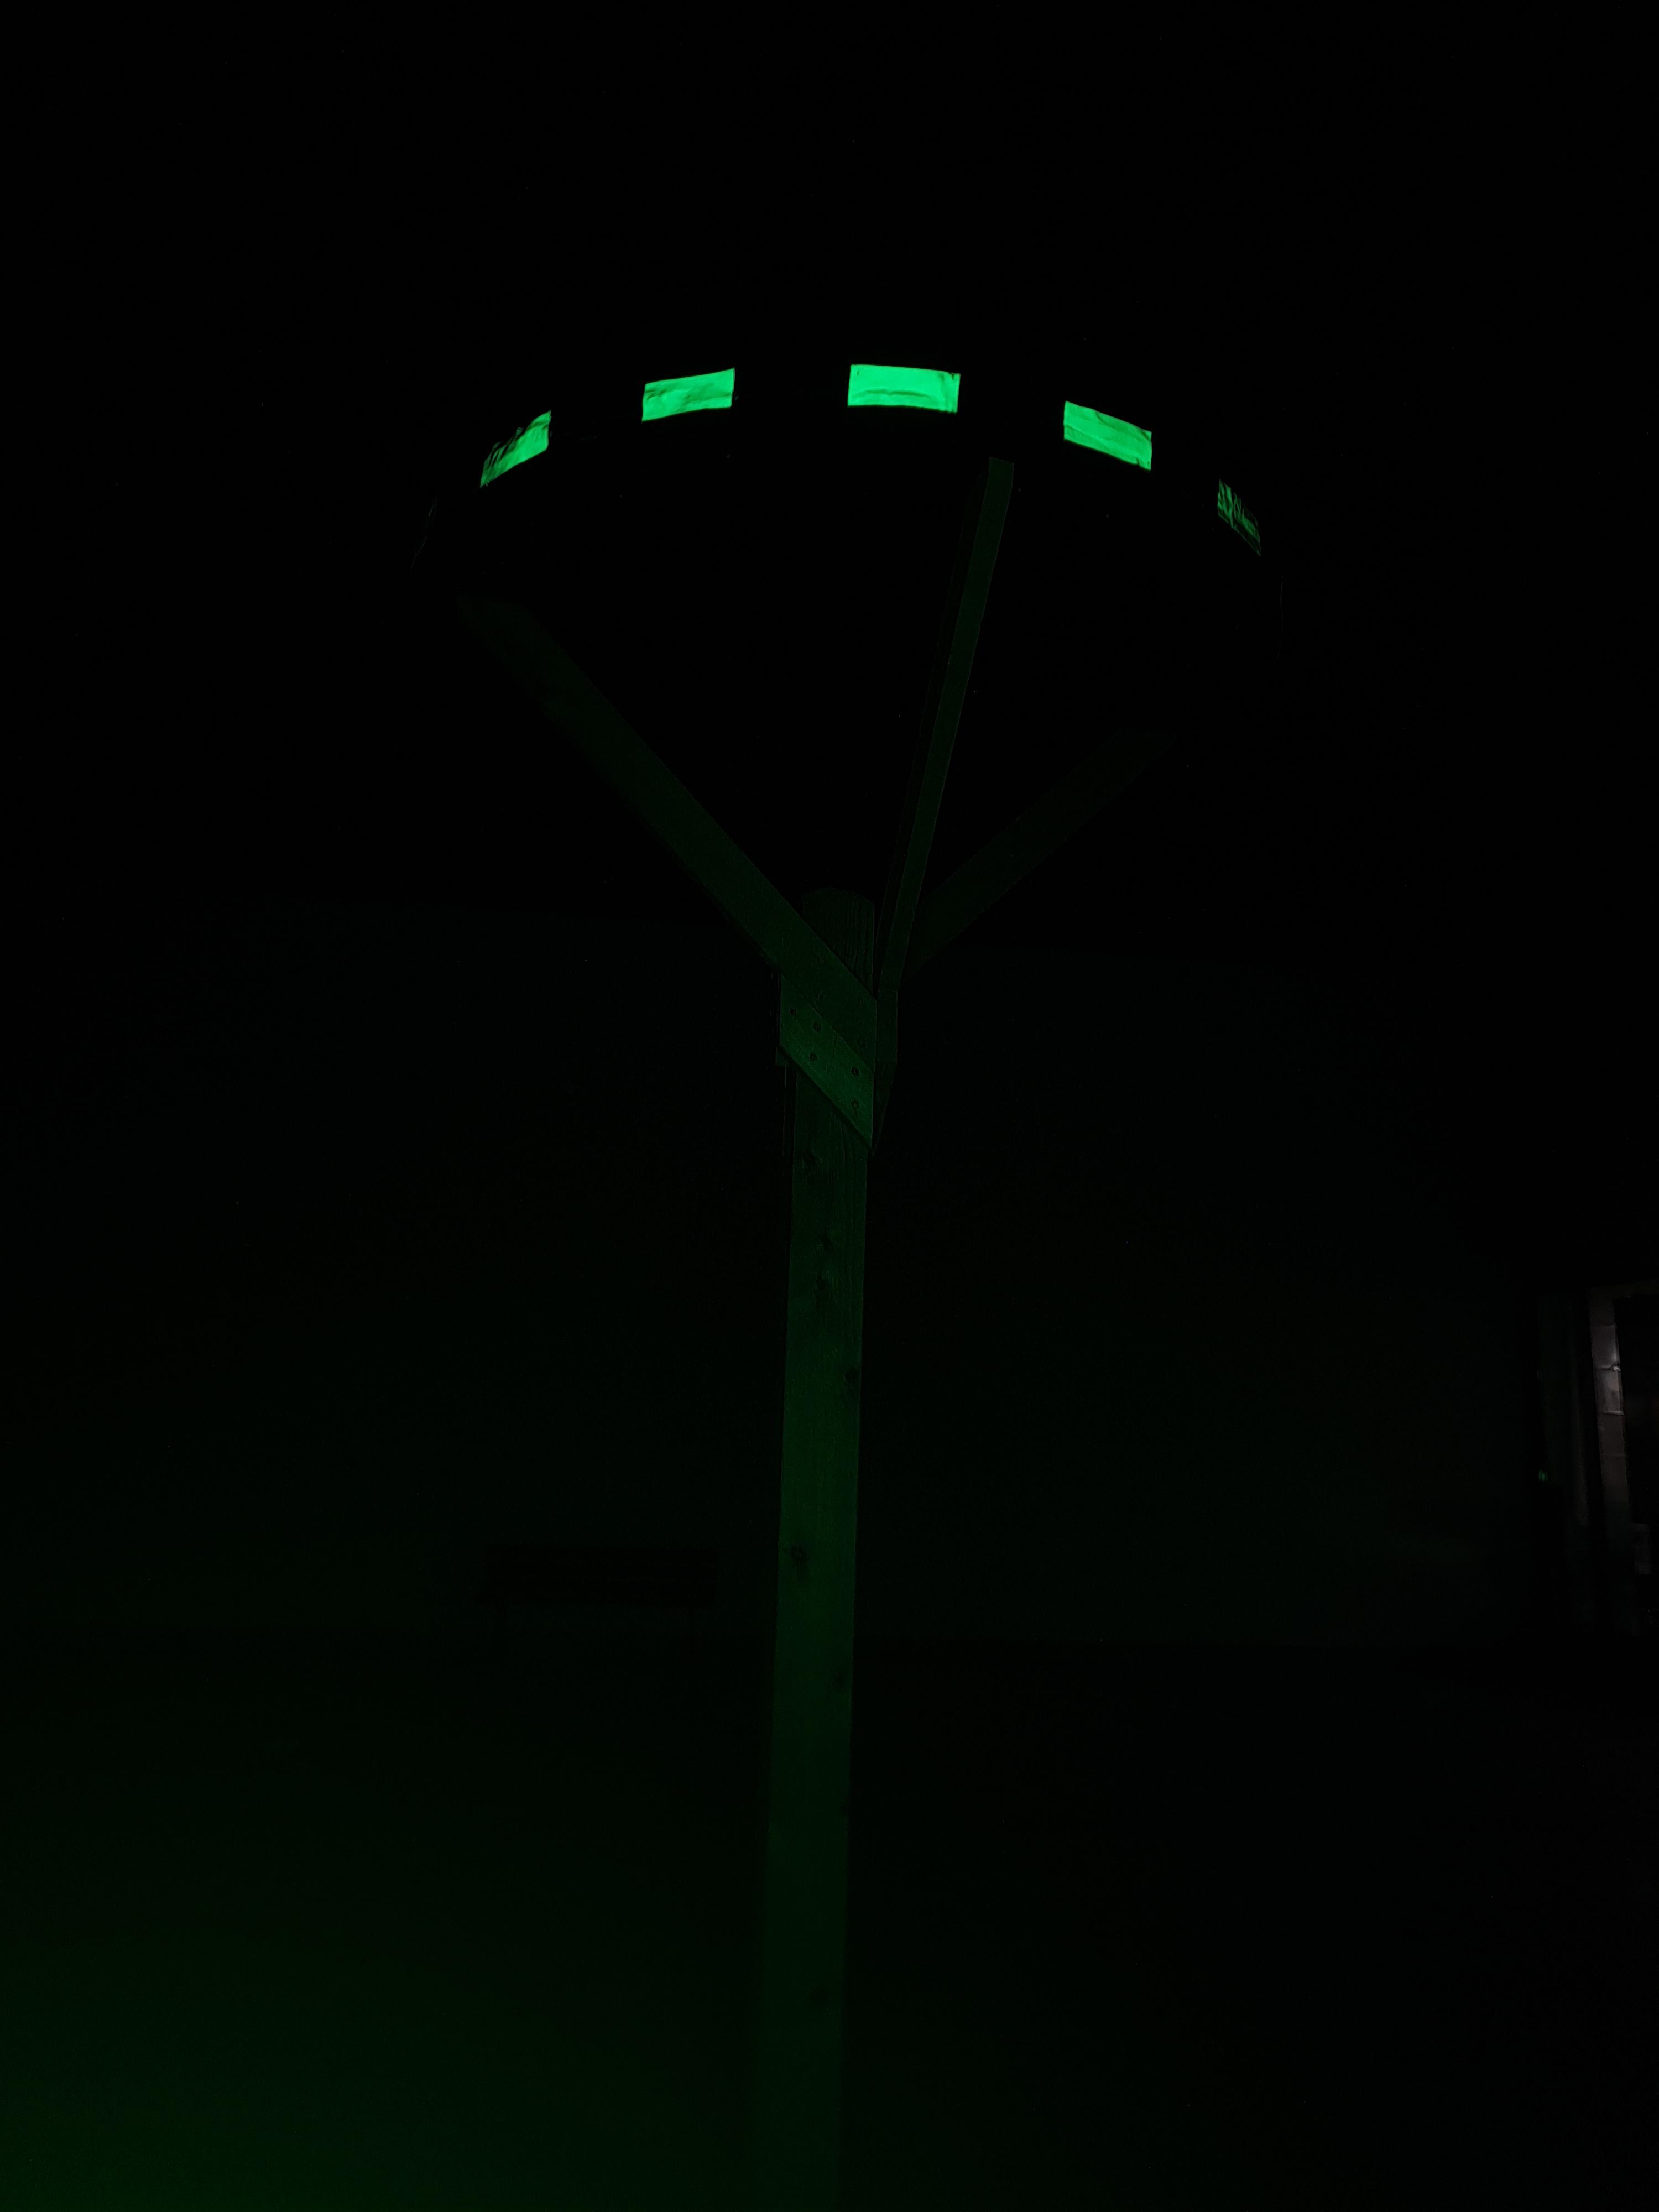hoop: (481, 357, 1263, 556)
